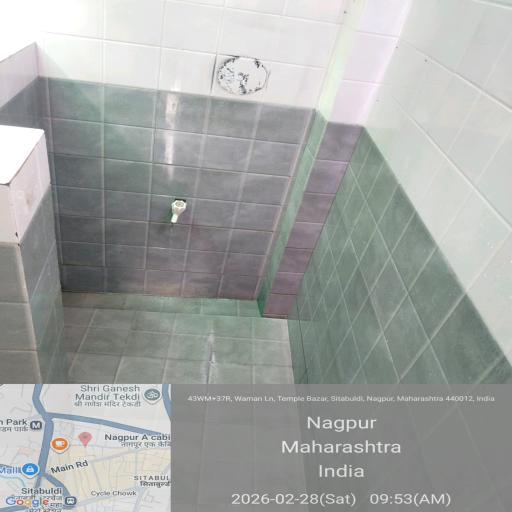clean_floor: (107, 169, 472, 506)
